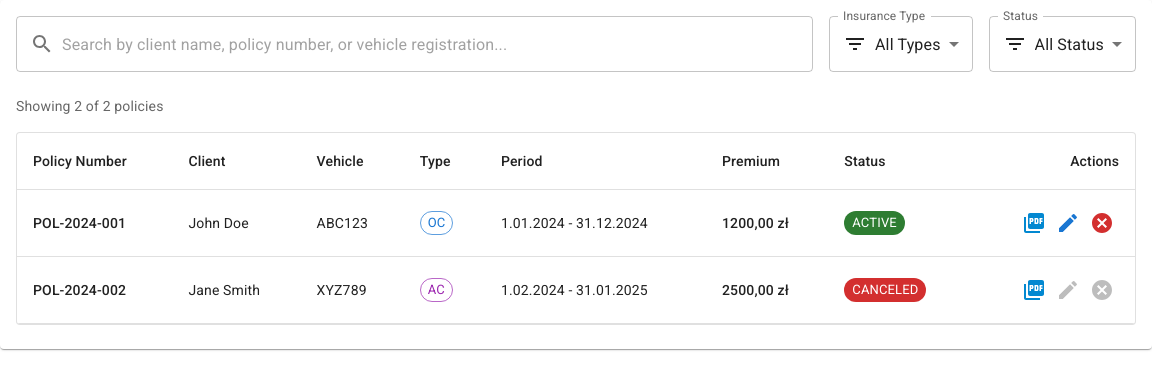
Scenario: PolicyList › filters policies by search term
Replace the text in the field with placeholder "Search by client name" with "John": [438, 44] box [62,16,813,72]
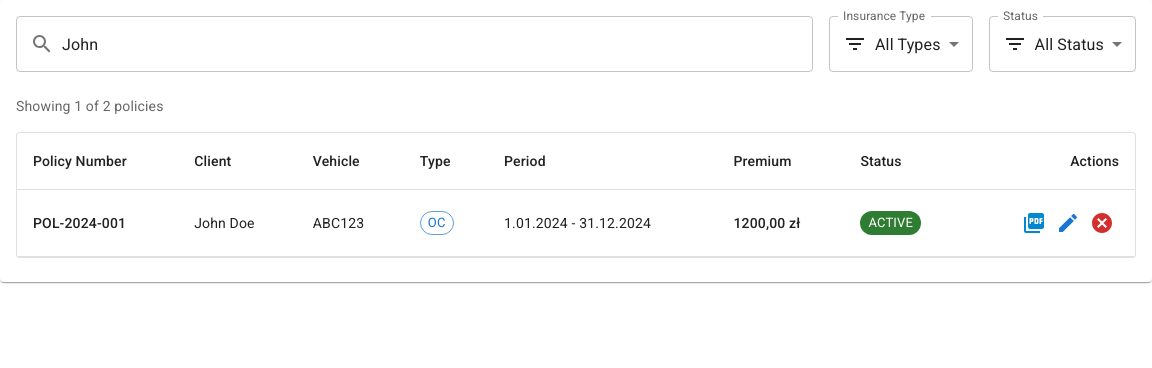
Expected: the text "John Doe" is shown, [194,215,255,231]
Expected: the text "Jane Smith" is gone
